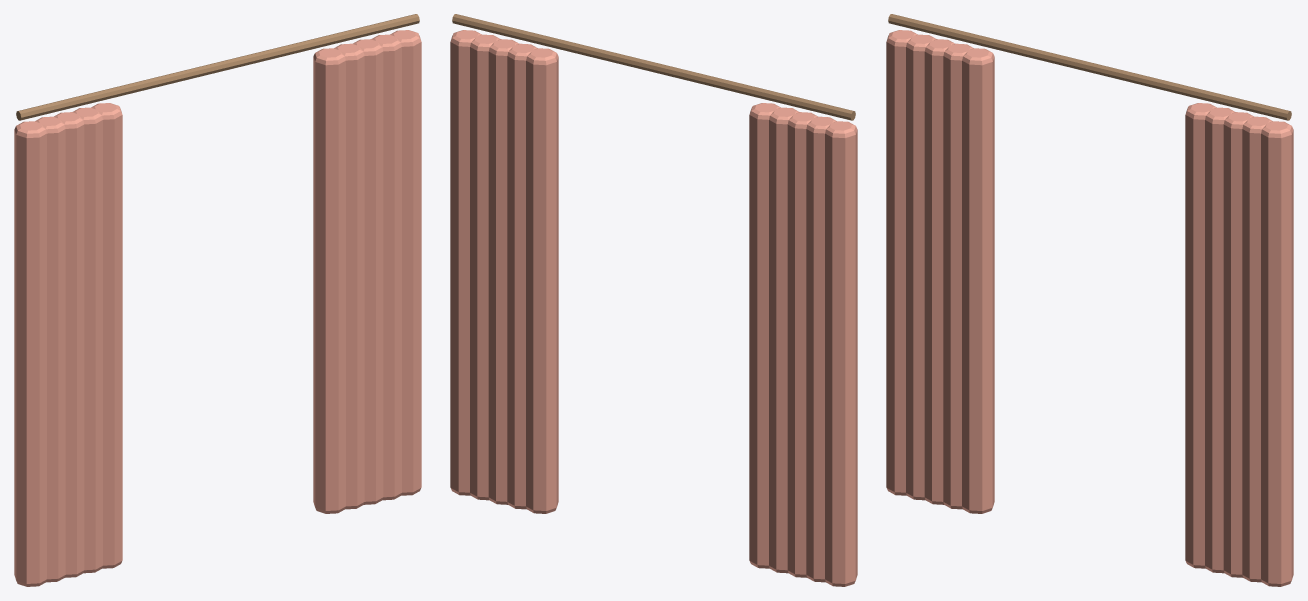
File: cozy-home-interiors-curtains-29cf6ce1.glb
3 views of the same model, side by side, from view 1: azimuth 30°, elevation 25°; view 2: azimuth 150°, elevation 25°; view 3: azimuth 330°, elevation 25° (orthographic).
Parts seen in each view (by area): view 1: curtains; view 2: curtains; view 3: curtains.
Part boxes in pixels (left/top/right/bottom): curtains: left=14, top=14, right=421, bottom=586; curtains: left=450, top=14, right=857, bottom=586; curtains: left=886, top=14, right=1293, bottom=586.
Size of the model in its own units: 1.62 by 1.82 by 0.1201.
